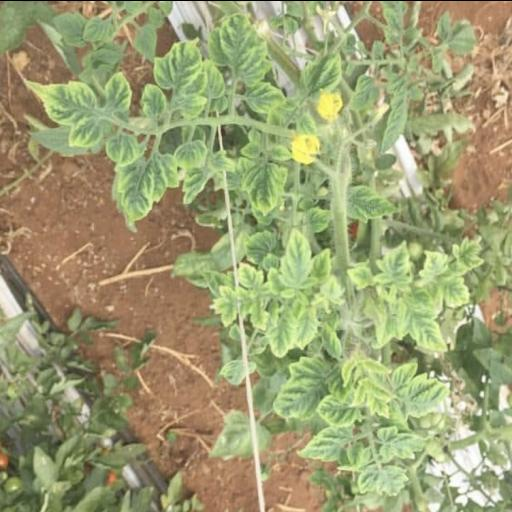disease_tomato: (296, 360, 450, 498), (208, 226, 318, 358), (371, 235, 483, 351), (23, 77, 103, 147), (207, 10, 273, 82), (114, 148, 168, 226), (273, 354, 329, 420), (152, 36, 204, 90), (277, 226, 315, 289), (243, 161, 287, 212), (347, 181, 401, 221), (246, 79, 288, 111), (104, 132, 142, 166), (104, 68, 132, 113), (174, 137, 210, 170)
